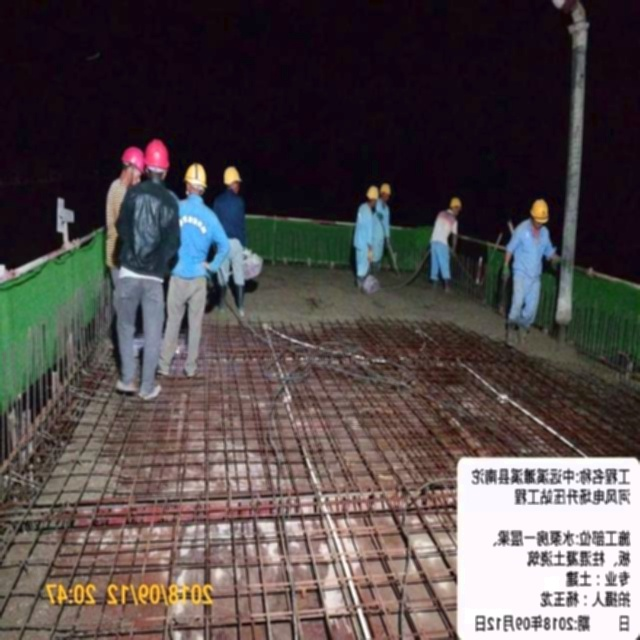Con_Casco: (147, 140, 171, 178), (185, 164, 207, 195)
Sin_Chaleco: (117, 182, 175, 278), (173, 200, 214, 277)
